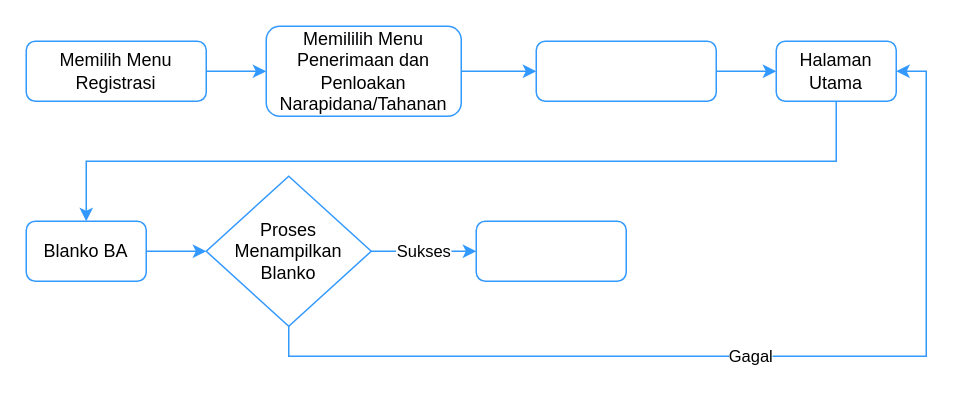
Some shapes in this 965 by 395 pixel diagram are drawn without their labels. The shapes that lost their labels are listed below. From the top down, each one's centre as x and y in pixels, then its label:
pixel 625 70: Memilih Menu Penerimaan
pixel 550 250: Blanko Tampil
